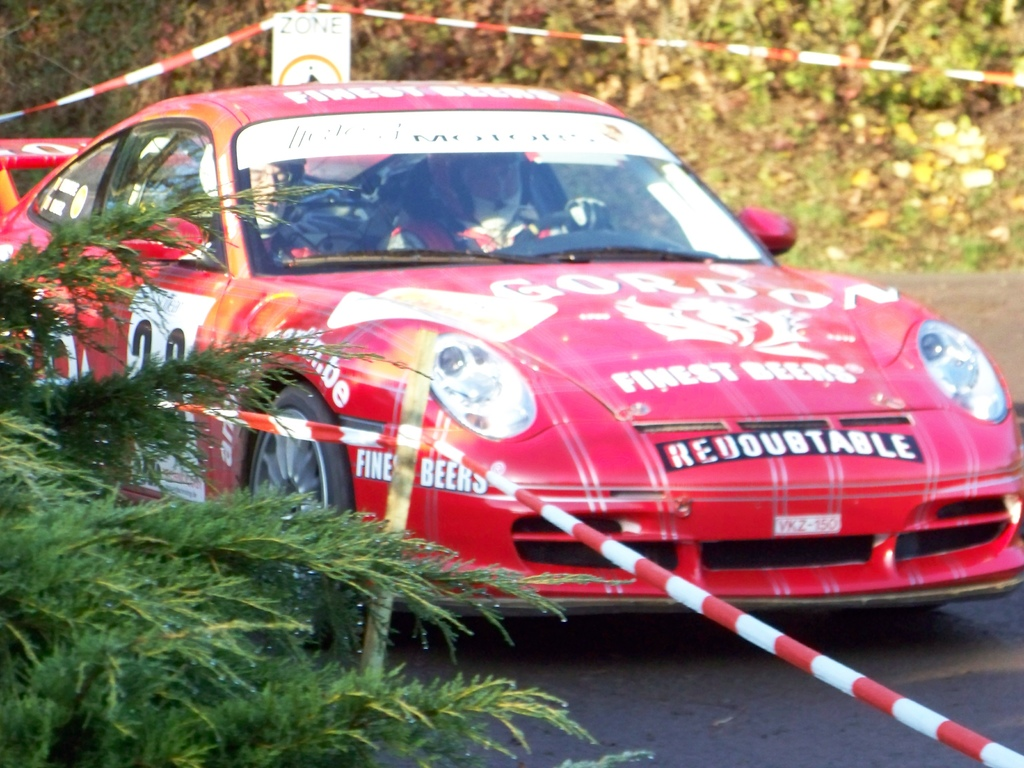Car: (0, 77, 1023, 643)
